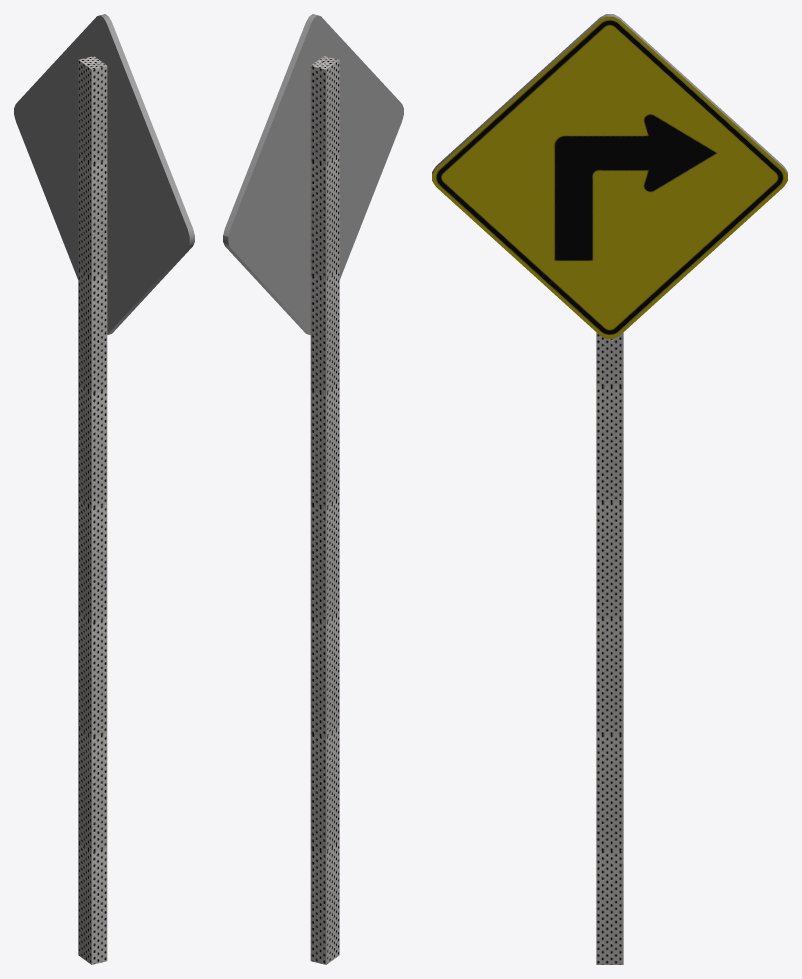
The model's file is Right turn.fbx.
The picture shows the model from 3 angles, left to right: view 1: azimuth 30°, elevation 25°; view 2: azimuth 150°, elevation 25°; view 3: azimuth 270°, elevation 25°; orthographic projection.
Visible parts, largest first — view 1: Right turn; view 2: Right turn; view 3: Right turn.
Boxes of the visible parts, x1,y1,x2,y2 form: Right turn: (14,14,194,964); Right turn: (223,14,403,964); Right turn: (432,14,787,964).
Bounding box in the file's own units: 5.56 × 225 × 76.24.
